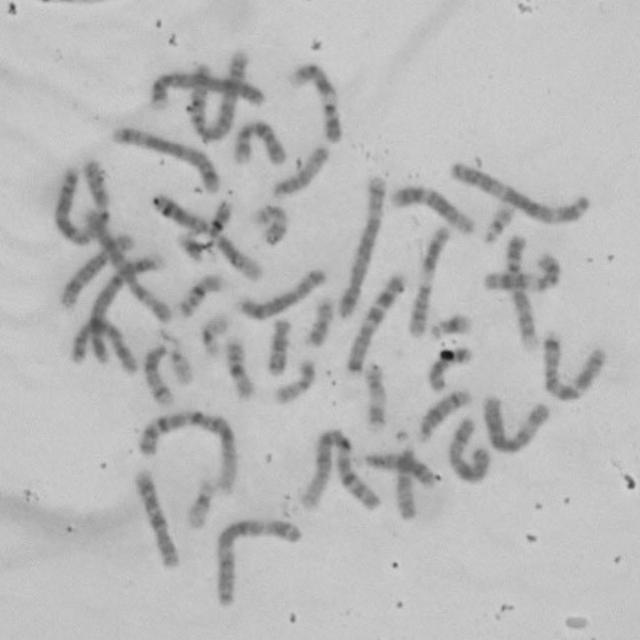A1: (134, 404, 238, 495), (294, 425, 388, 514)
A2: (184, 46, 252, 143), (49, 158, 113, 245)
A3: (445, 157, 593, 226), (210, 514, 302, 609)
B4: (77, 248, 165, 367), (147, 66, 266, 111)
B5: (110, 122, 222, 193), (336, 173, 386, 321)
C10: (130, 465, 181, 570), (230, 116, 288, 166)
C11: (404, 220, 450, 339), (479, 248, 563, 294)
C12: (386, 180, 476, 236), (208, 198, 264, 285)
C6: (76, 202, 173, 325), (480, 390, 551, 456)
C7: (342, 268, 408, 375), (539, 326, 608, 404)
C8: (56, 230, 134, 310), (235, 265, 328, 322)
C9: (286, 60, 344, 143), (502, 227, 540, 349)
D13: (348, 451, 438, 490), (150, 190, 208, 245)
D14: (414, 385, 472, 443), (140, 339, 175, 408)
D15: (268, 140, 330, 199), (392, 444, 418, 522)
E16: (173, 269, 224, 320), (222, 333, 256, 400)
E17: (359, 357, 388, 431), (250, 200, 290, 248)
E18: (424, 343, 474, 392), (262, 314, 292, 378)
F19: (184, 476, 218, 533), (198, 308, 232, 358)
F20: (270, 356, 316, 406), (302, 294, 336, 349)
G21: (426, 309, 472, 342), (180, 230, 212, 264)
G22: (481, 198, 518, 244), (162, 337, 195, 386)
X: (66, 313, 139, 377), (444, 412, 491, 485)
